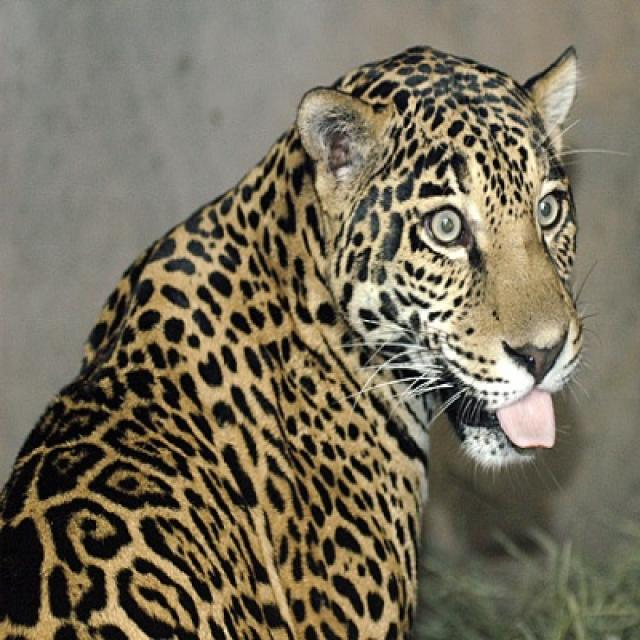Jaguar: (0, 46, 584, 638)
